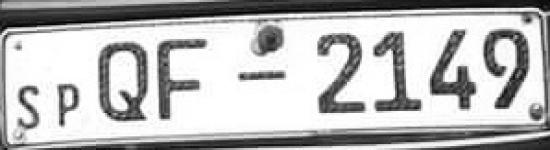-: (236, 66, 288, 83)
1: (371, 27, 425, 116)
2: (308, 26, 370, 117)
4: (430, 20, 481, 120)
9: (482, 21, 538, 121)
F: (158, 35, 225, 125)
P: (55, 77, 86, 134)
Q: (92, 37, 155, 129)
S: (10, 82, 46, 132)
